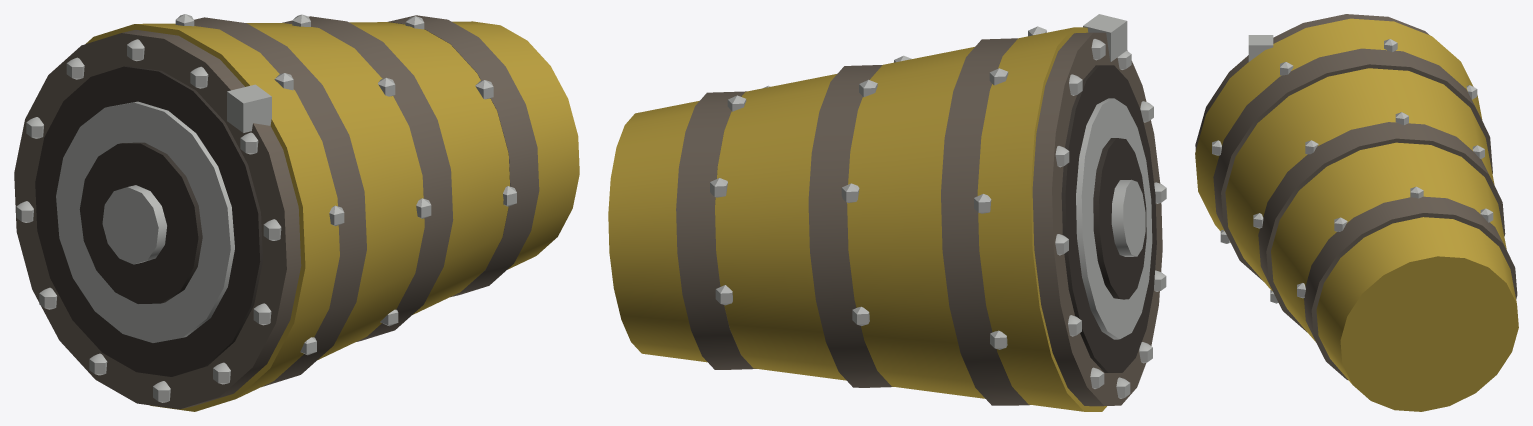
Rendered from crash-site-chest-1.glb.
The picture shows the model from 3 angles, left to right: view 1: azimuth 30°, elevation 25°; view 2: azimuth 150°, elevation 25°; view 3: azimuth 270°, elevation 25°; orthographic projection. The views are drawn at different scales.
Visible parts, largest first — view 1: body; view 2: body; view 3: body.
Part boxes in pixels (box(x1,y1,x2,y2)): body: box(14, 14, 579, 411); body: box(608, 14, 1166, 411); body: box(1195, 14, 1518, 411).
Size of the model in its own units: 1.37 by 0.9615 by 1.05.
